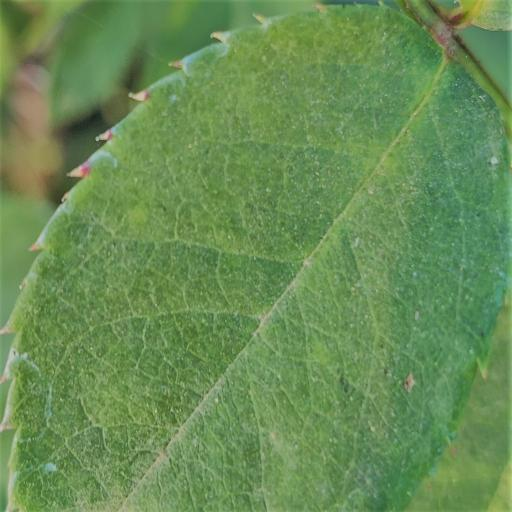healthy_leaf: (0, 4, 512, 512)
